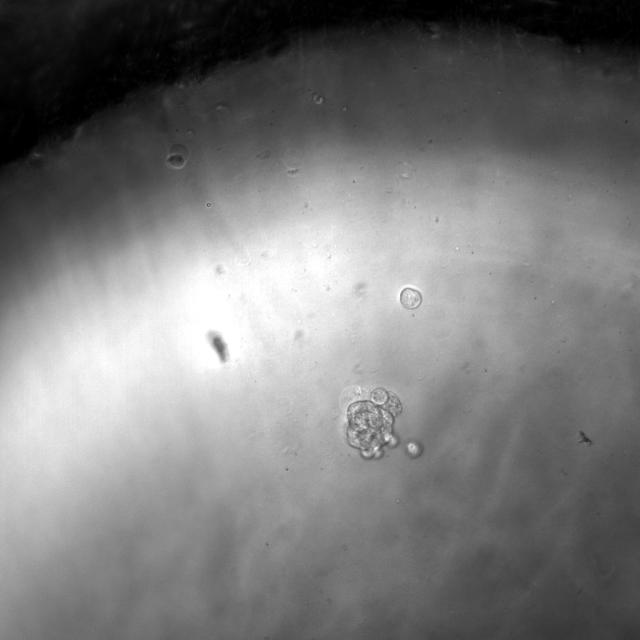organoid: (339, 385, 402, 458), (168, 144, 189, 169), (400, 287, 421, 308), (404, 440, 422, 458)
